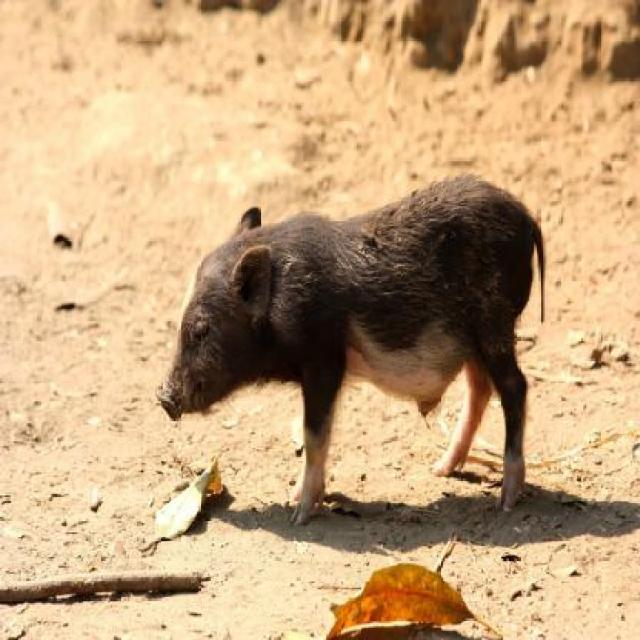Boar: (155, 166, 548, 511)
